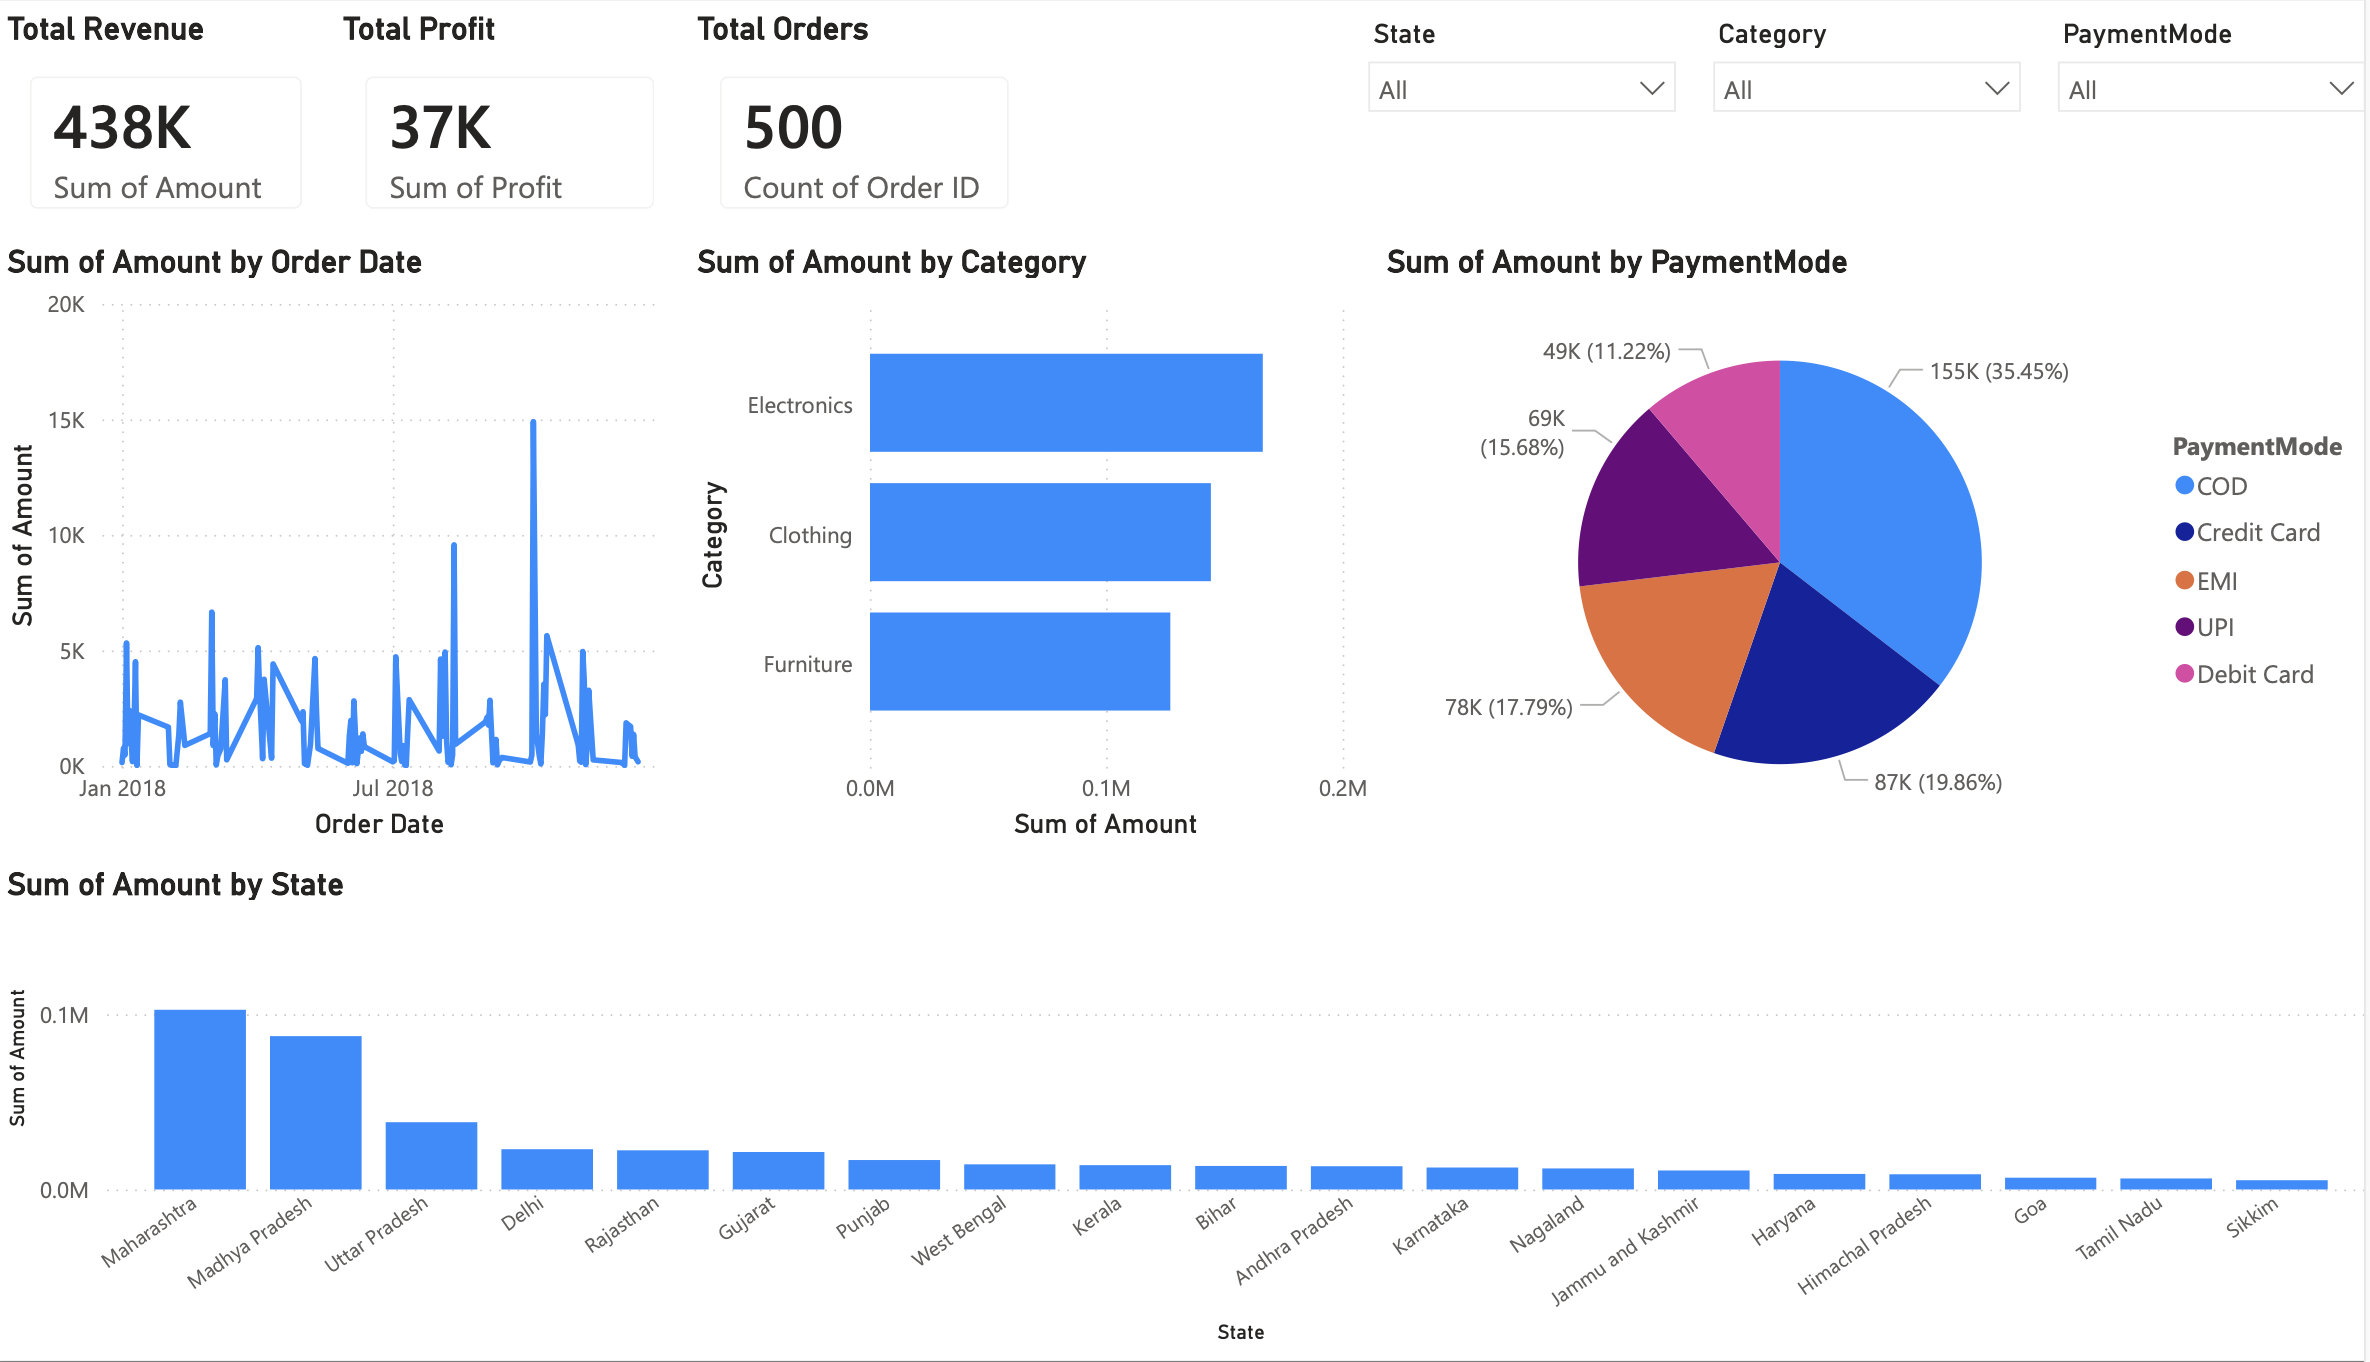

Layout of this report page (visuals, bound fields, positions):
{"tool":"powerbi","page":{"name":"Overview","canvas":[1280,720],"ordinal":0},"visuals":[{"type":"cardVisual","title":"Total Revenue","fields":{"Data":["Sum(Details.Amount)"]},"box":[0,0,180.4,125],"z":0},{"type":"cardVisual","title":"Total Profit","fields":{"Data":["Sum(Details.Profit)"]},"box":[180.4,0,189.9,125],"z":1000},{"type":"cardVisual","title":"Total Orders","fields":{"Data":["Count(Details.Order ID)"]},"box":[370.2,0,189.9,125],"z":2000},{"type":"lineChart","fields":{"Category":["Orders.Order Date"],"Y":["Sum(Details.Amount)"]},"box":[0,125,370.2,324.4],"z":3000},{"type":"clusteredBarChart","fields":{"Category":["Details.Category"],"Y":["Sum(Details.Amount)"]},"box":[370.2,125,370.2,324.4],"z":4000},{"type":"clusteredColumnChart","fields":{"Category":["Orders.State"],"Y":["Sum(Details.Amount)"]},"box":[0,458.8,1280,261.1],"z":5000},{"type":"pieChart","fields":{"Category":["Details.PaymentMode"],"Y":["Sum(Details.Amount)"]},"box":[740.5,125,539.5,324.4],"z":6000},{"type":"slicer","fields":{"Values":["Orders.State"]},"box":[724.6,0,185.1,63.3],"z":7000},{"type":"slicer","fields":{"Values":["Details.Category"]},"box":[909.8,0,185.1,63.3],"z":8000},{"type":"slicer","fields":{"Values":["Details.PaymentMode"]},"box":[1094.9,0,185.1,63.3],"z":9000}]}

Visuals, with their boxes in screenshot pixels (x1, y1, x2, y2), scaled from the page's 1280x720 canvas onto the 2370x1362 screenshot:
"Total Revenue" cardVisual: {"left": 0, "top": 0, "right": 334, "bottom": 236}
"Total Profit" cardVisual: {"left": 334, "top": 0, "right": 686, "bottom": 236}
"Total Orders" cardVisual: {"left": 685, "top": 0, "right": 1037, "bottom": 236}
lineChart - Orders.Order Date x Sum(Details.Amount): {"left": 0, "top": 236, "right": 685, "bottom": 850}
clusteredBarChart - Details.Category x Sum(Details.Amount): {"left": 685, "top": 236, "right": 1371, "bottom": 850}
clusteredColumnChart - Orders.State x Sum(Details.Amount): {"left": 0, "top": 868, "right": 2369, "bottom": 1361}
pieChart - Details.PaymentMode x Sum(Details.Amount): {"left": 1371, "top": 236, "right": 2369, "bottom": 850}
slicer - Orders.State: {"left": 1342, "top": 0, "right": 1684, "bottom": 120}
slicer - Details.Category: {"left": 1685, "top": 0, "right": 2027, "bottom": 120}
slicer - Details.PaymentMode: {"left": 2027, "top": 0, "right": 2369, "bottom": 120}
